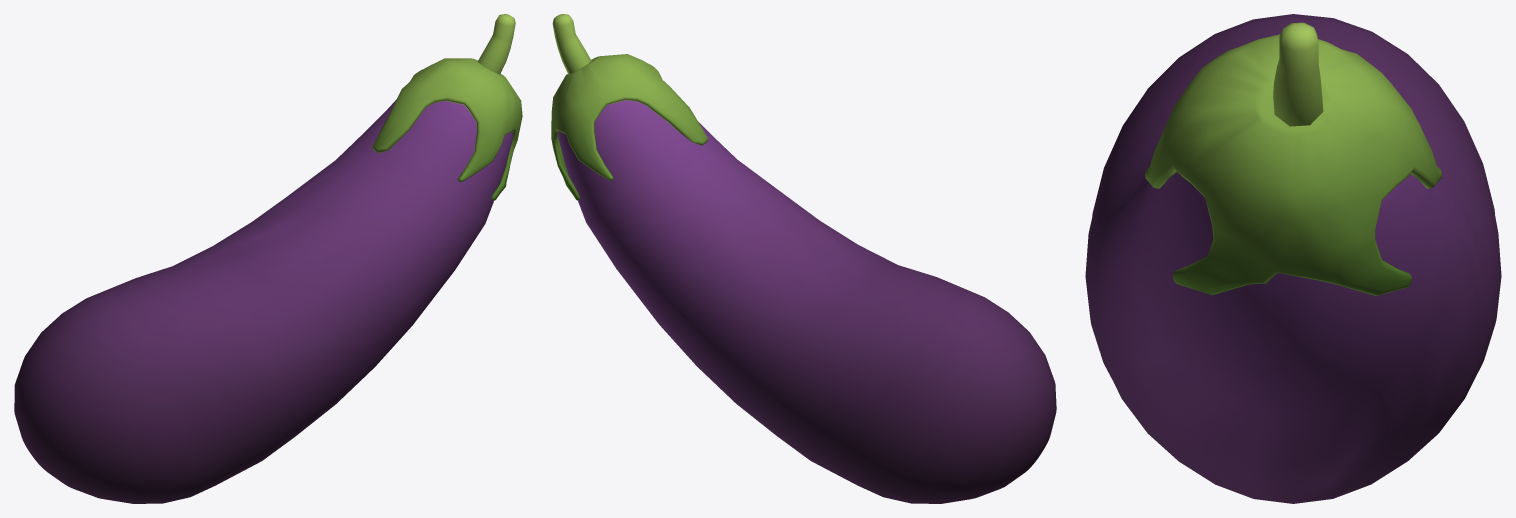
The model's file is Eggplant.fbx.
3 renders of one model, left to right at view 1: azimuth 30°, elevation 25°; view 2: azimuth 150°, elevation 25°; view 3: azimuth 270°, elevation 25°, orthographic. The views are drawn at different scales.
Parts seen in each view (by area): view 1: Eggplant; view 2: Eggplant; view 3: Eggplant.
Part boxes in pixels (x1,y1,x2,y2): Eggplant: (14,14,522,503); Eggplant: (551,14,1056,503); Eggplant: (1085,14,1501,503).
Size of the model in its own units: 20.59 by 15.59 by 7.76.
